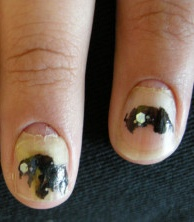SJS-TEN: (100, 41, 194, 175), (0, 99, 89, 217)
